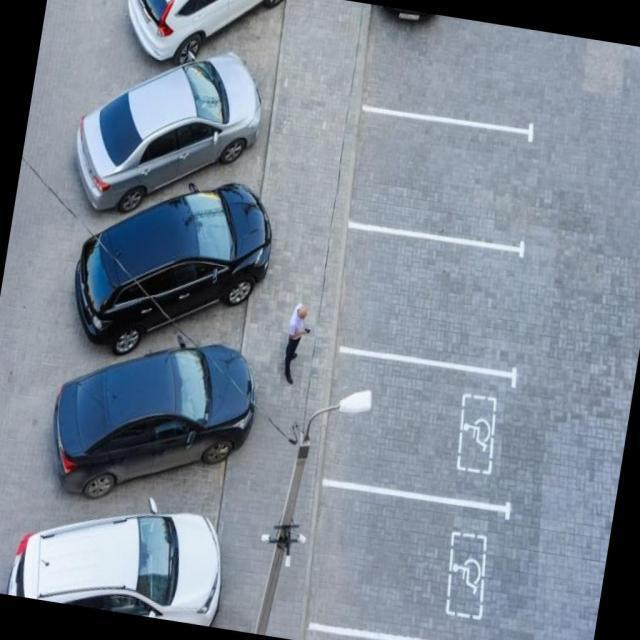car: (358, 5, 550, 136)
free: (298, 484, 520, 640), (314, 351, 524, 508), (325, 225, 531, 371), (344, 110, 538, 250)
